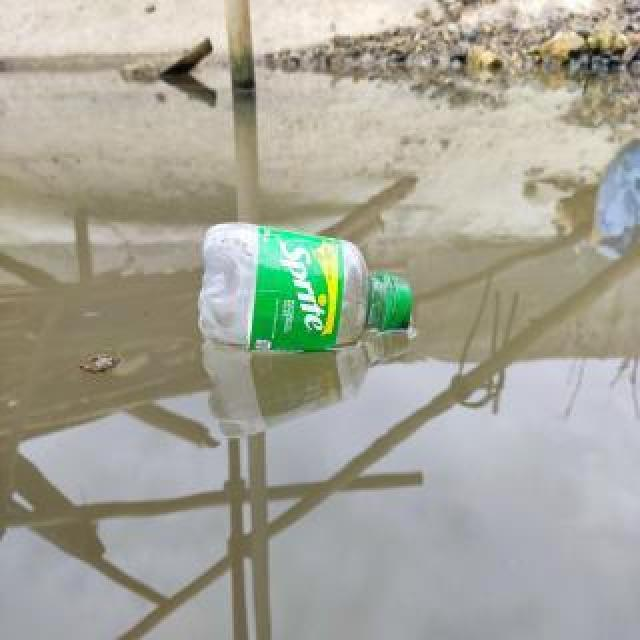bottle: (194, 217, 416, 359)
